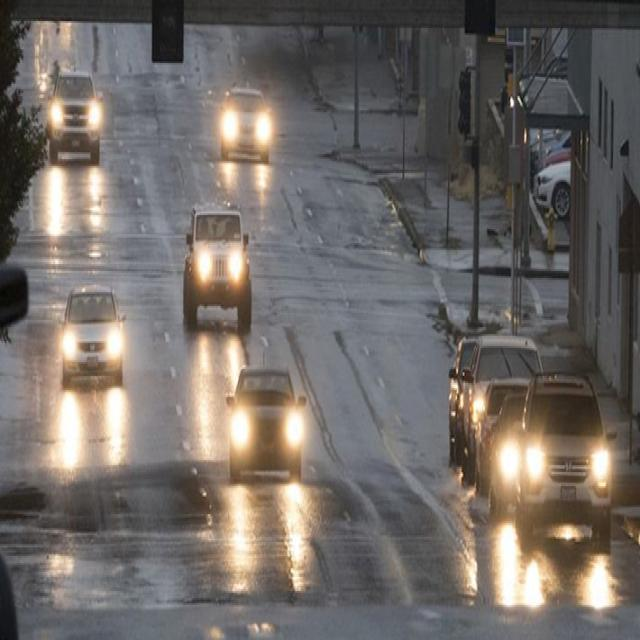Car: (514, 368, 618, 556), (466, 327, 545, 484), (226, 361, 307, 480), (183, 199, 252, 332), (59, 281, 130, 393), (43, 63, 106, 165), (214, 80, 272, 170)
